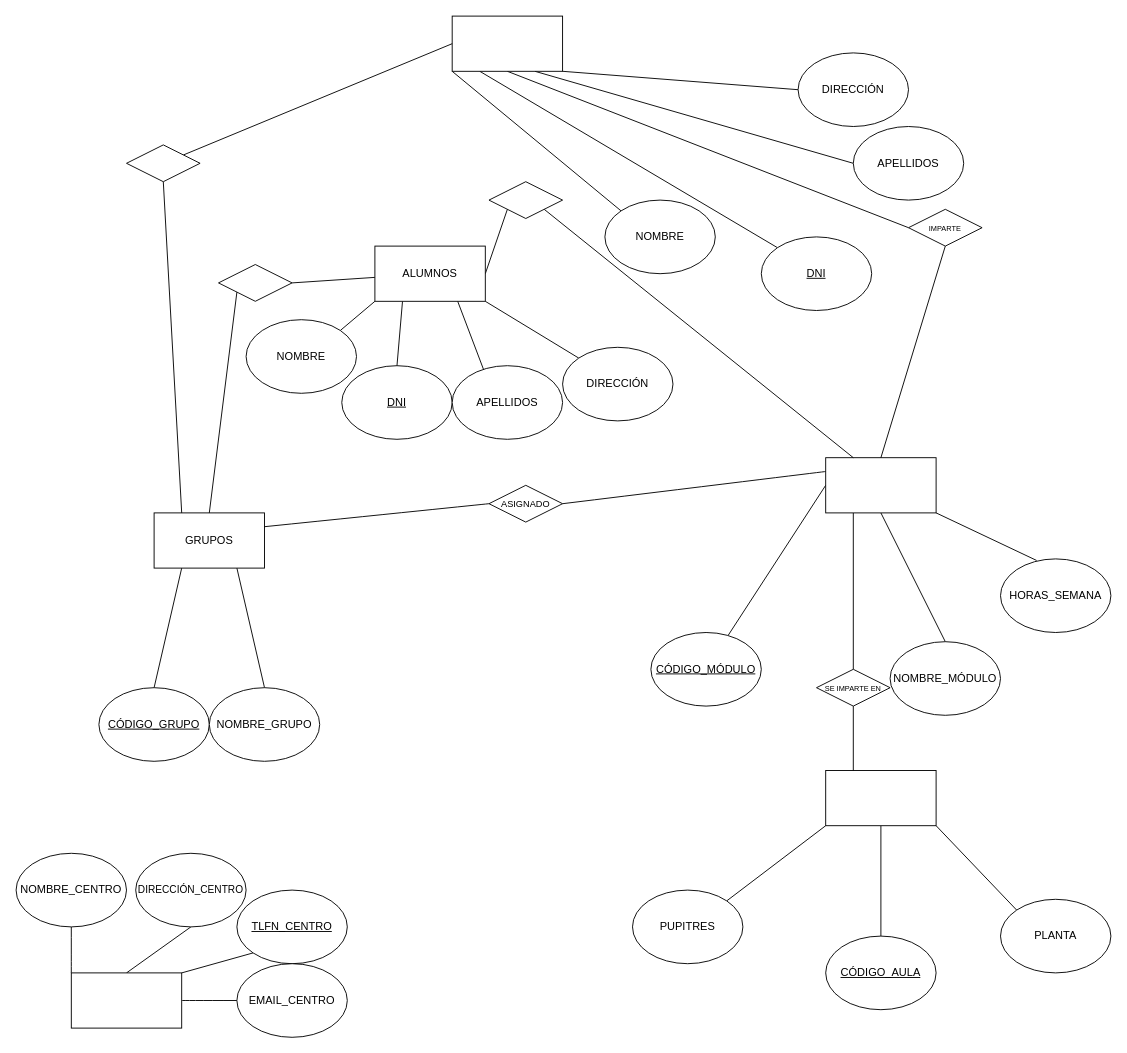
Some shapes in this 1127 by 1053 pixel diagram are drawn without their labels. Each missing label, with the centre of its shape:
AULAS: (x=880, y=798)
CENTRO: (x=126, y=1000)
ES_TUTOR: (x=163, y=163)
MATRICULADO: (x=525, y=199)
MÓDULOS: (x=880, y=485)
PERTENECE: (x=255, y=282)
PROFESOR: (x=507, y=43)
